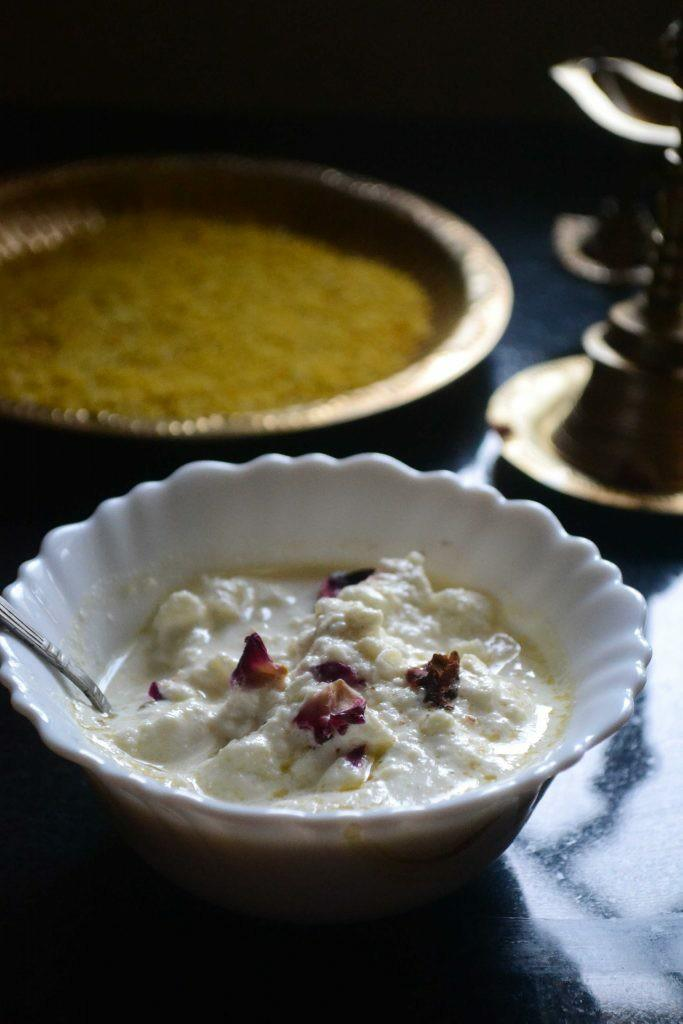Kheer: (72, 548, 570, 810)
